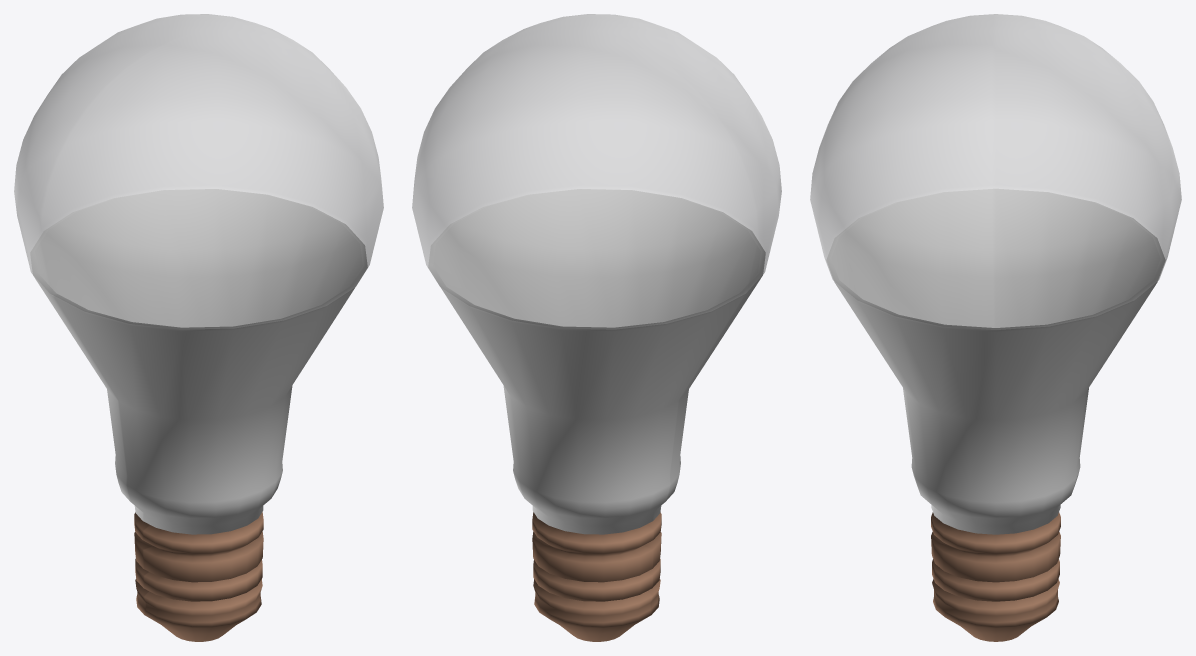
Rendered from Bulb.fbx.
3 renders of one model, left to right at view 1: azimuth 30°, elevation 25°; view 2: azimuth 150°, elevation 25°; view 3: azimuth 270°, elevation 25°, orthographic.
Visible parts, largest first — view 1: pSphere1; view 2: pSphere1; view 3: pSphere1.
Boxes of the visible parts, x1,y1,x2,y2 form: pSphere1: (14,14,383,641); pSphere1: (412,14,781,641); pSphere1: (810,14,1181,641).
Size of the model in its own units: 6.4 by 11.38 by 6.4.
